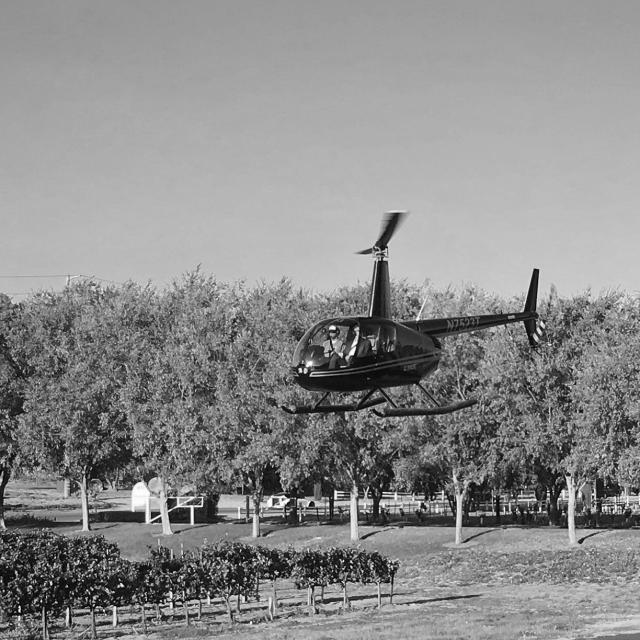helicopter: (259, 210, 565, 430)
